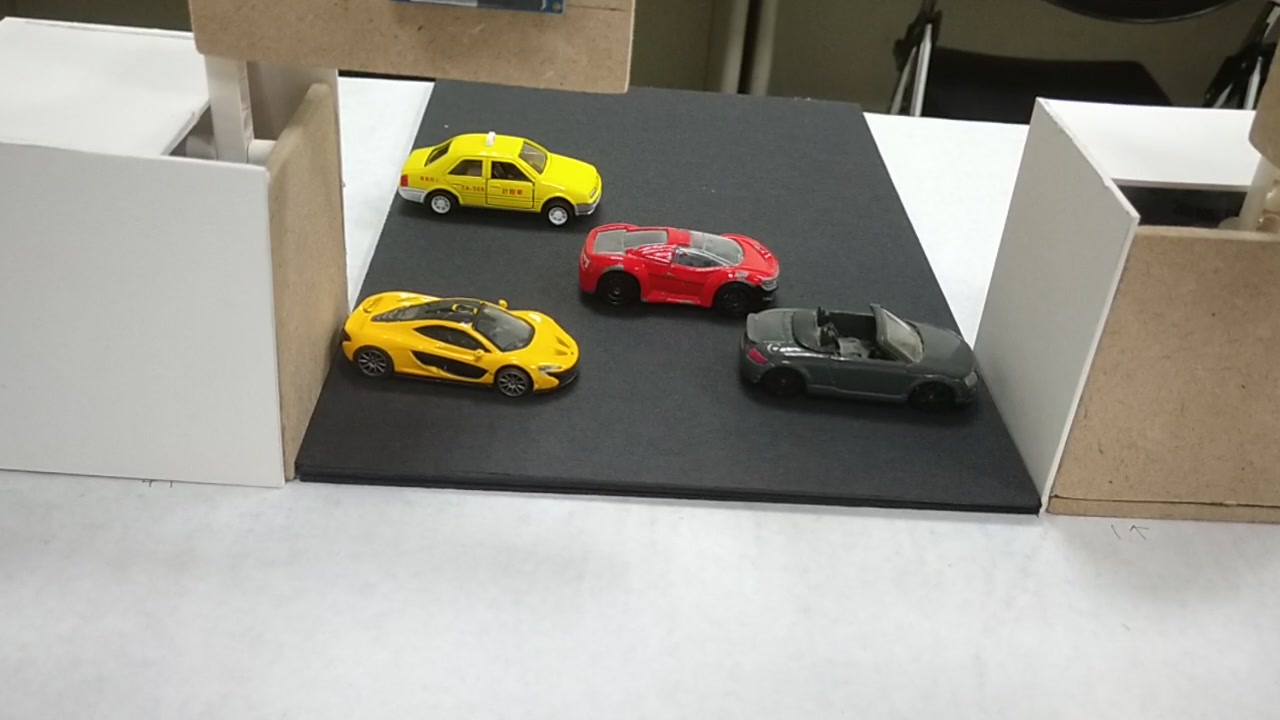car: (339, 291, 579, 397), (743, 310, 979, 414), (399, 136, 596, 226), (582, 221, 780, 308)
